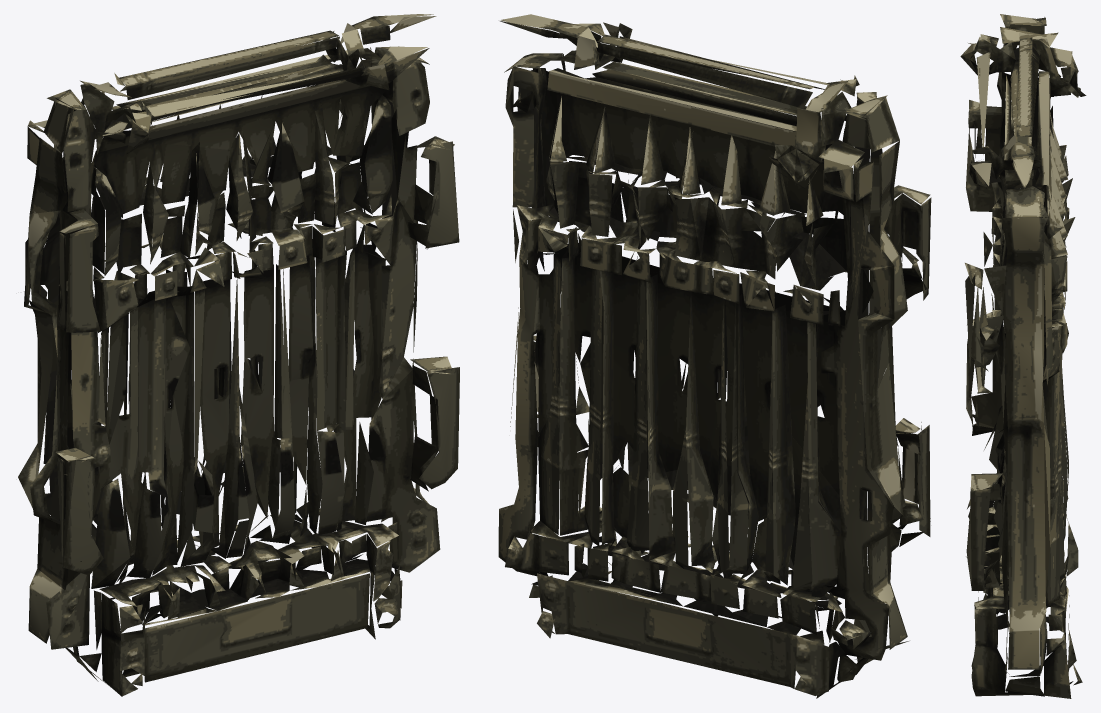
File: mo_feeder.glb
3 renders of one model, left to right at view 1: azimuth 30°, elevation 25°; view 2: azimuth 150°, elevation 25°; view 3: azimuth 270°, elevation 25°, orthographic. The views are drawn at different scales.
Visible parts, largest first — view 1: mo_feeder; view 2: mo_feeder; view 3: mo_feeder.
Part boxes in pixels (left/top/right/bottom): mo_feeder: left=18, top=14, right=459, bottom=696; mo_feeder: left=498, top=14, right=931, bottom=698; mo_feeder: left=960, top=14, right=1086, bottom=698.
Bounding box in the file's own units: 0.1459 × 0.2 × 0.0414.
1 material, 1 textured.
